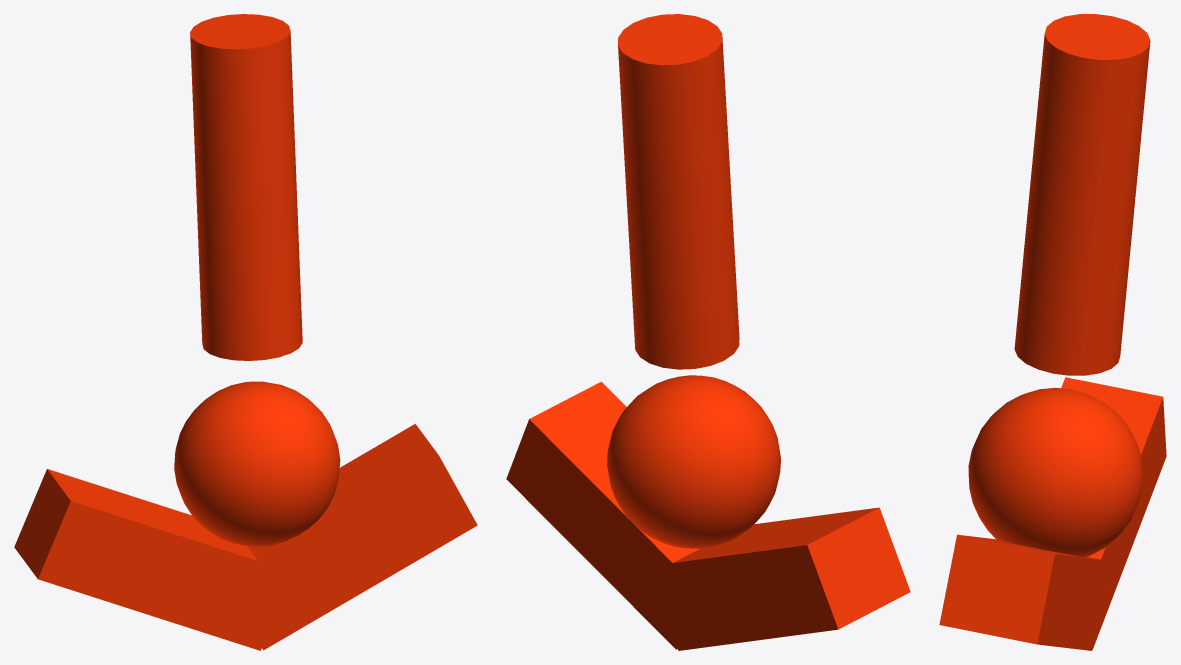
File: SelectConfirmation.fbx
3 views of the same model, side by side, from view 1: azimuth 30°, elevation 25°; view 2: azimuth 150°, elevation 25°; view 3: azimuth 270°, elevation 25° (orthographic). The views are drawn at different scales.
Parts seen in each view (by area): view 1: Cylinder, Cube (1), Cube, SelectConfirmation; view 2: Cylinder, SelectConfirmation, Cube (1), Cube; view 3: Cylinder, SelectConfirmation, Cube, Cube (1).
Boxes of the visible parts, x1,y1,x2,y2 form: Cylinder: (190,14,302,360); Cube (1): (14,469,293,650); Cube: (243,423,477,650); SelectConfirmation: (174,381,340,546); Cylinder: (618,14,739,369); SelectConfirmation: (607,375,780,548); Cube (1): (670,507,910,650); Cube: (506,381,699,649); Cylinder: (1014,14,1150,375); SelectConfirmation: (968,387,1142,557); Cube: (939,534,1100,650); Cube (1): (1061,377,1166,649).
Bounding box in the file's own units: 0.5516 × 0.7724 × 0.2566.
